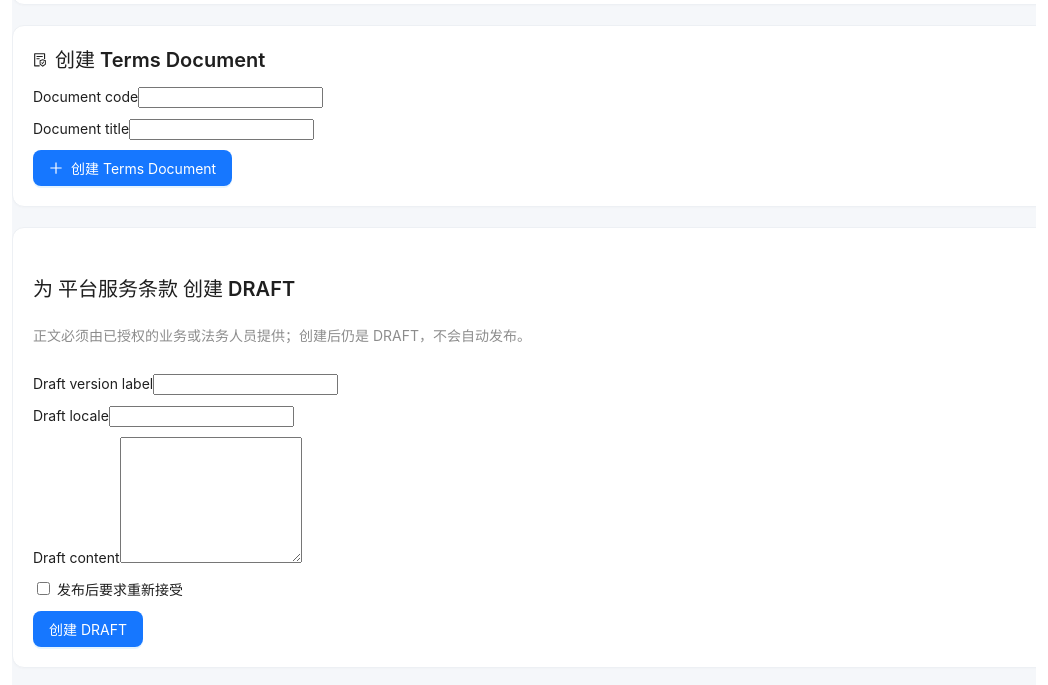
Test: A-BIZ-06C.3 Platform Terms Operations Page › creates a DRAFT from explicit business/legal content and refreshes the directories
(page scrolled)
Type "2026-08-draft" into the field labelled "Draft version label" at (246, 384), box 153,374 -> 338,395
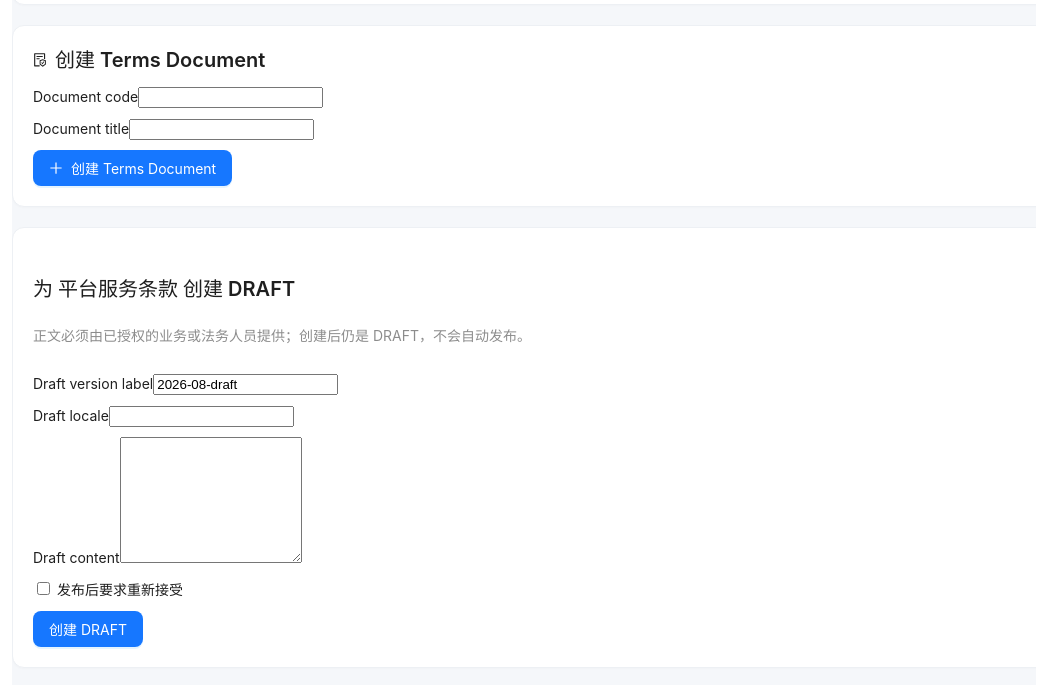
Type "zh-CN" into the field labelled "Draft locale" at (201, 416), box 109,406 -> 294,427
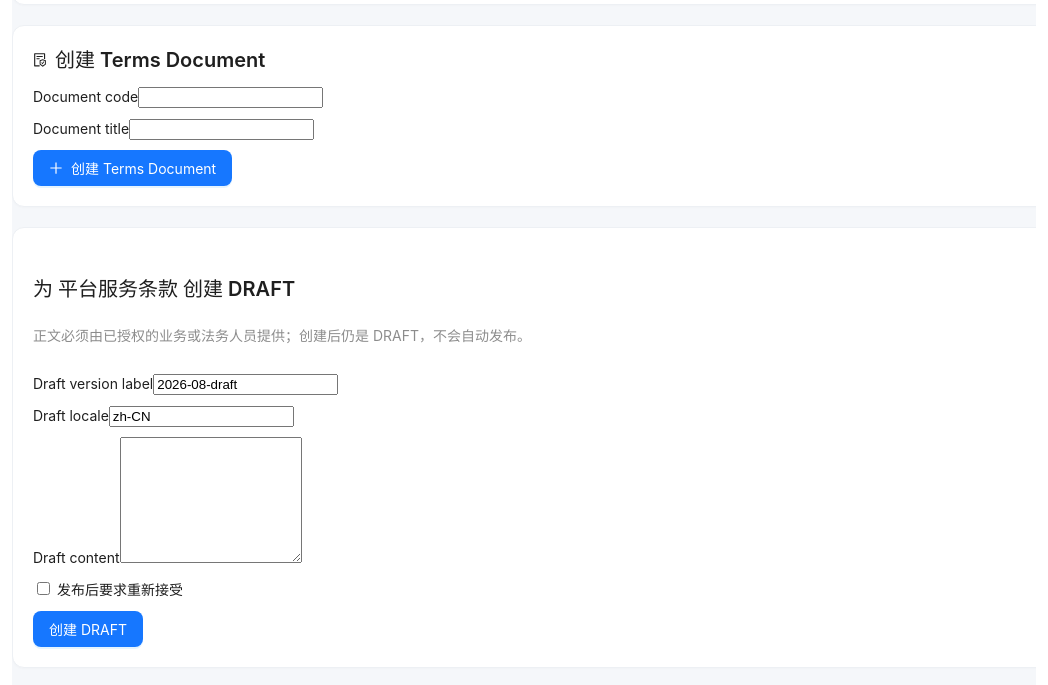
Type "由业务或法务提供的待审正文。" into the text box labelled "Draft content" at (211, 500), box 120,437 -> 302,563
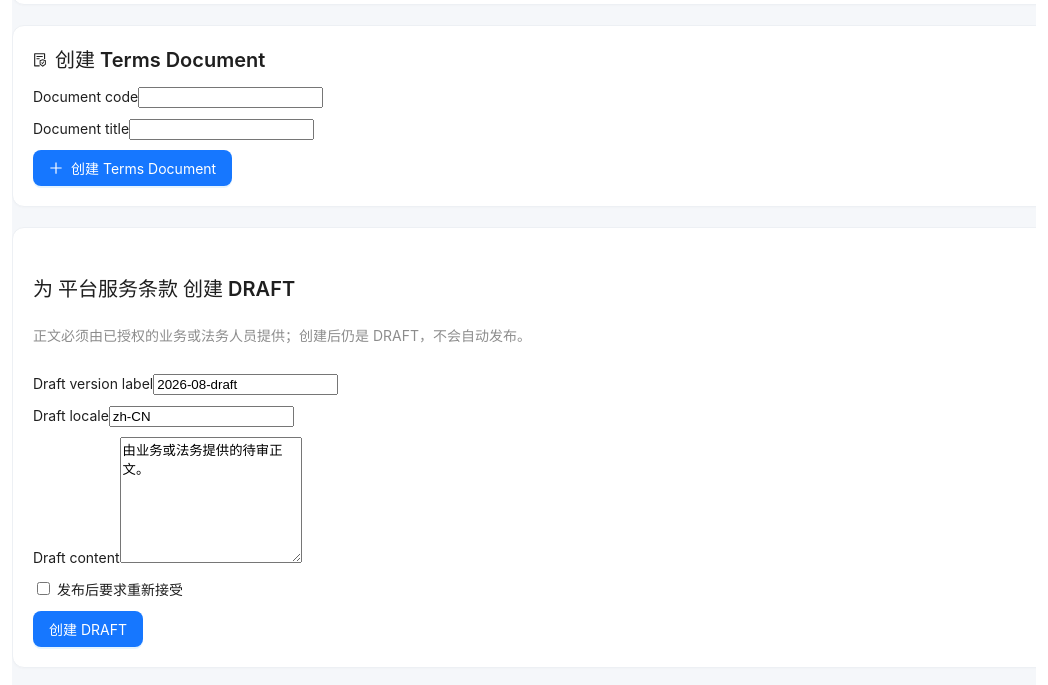
Click the button "创建 DRAFT" at (88, 629), box 33,611 -> 143,647
(page scrolled)
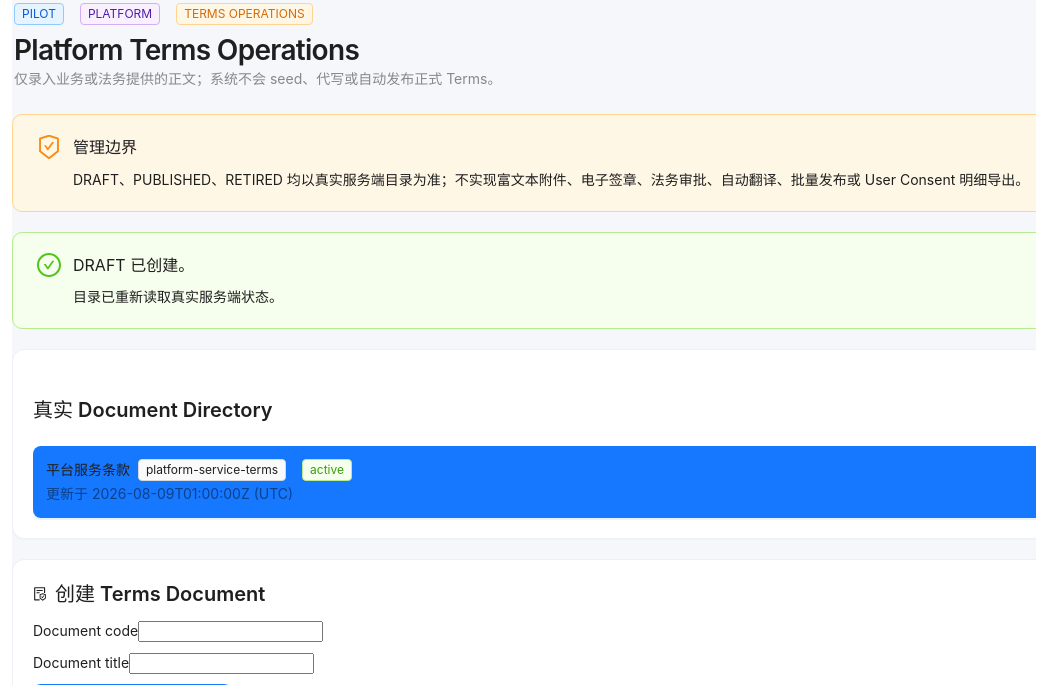
Now the message with test id "pilot-terms-mutation-success" shows "DRAFT 已创建", box 73,255 -> 194,275
